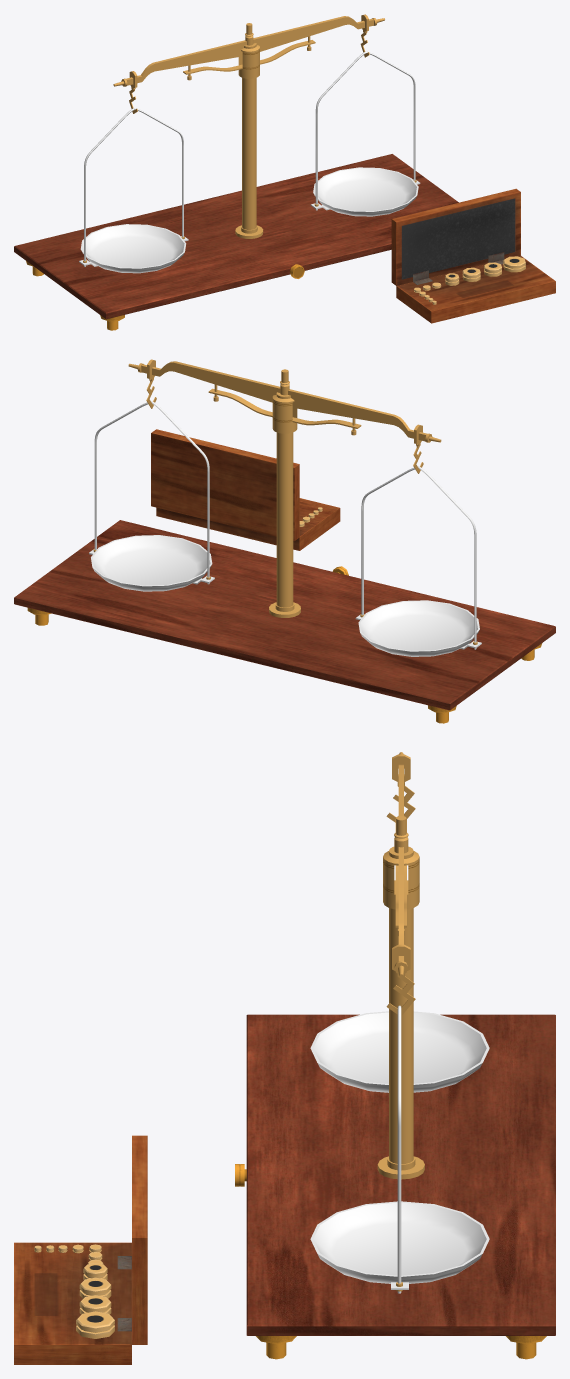
File: Balance.fbx
3 renders of one model, top to bottom at view 1: azimuth 30°, elevation 25°; view 2: azimuth 150°, elevation 25°; view 3: azimuth 270°, elevation 25°, orthographic. The views are drawn at different scales.
Parts seen in each view (by area): view 1: Cube.006, Cube.008, Cube.009, Cylinder.008, Cube.007, Cylinder.006; view 2: Cube.006, Cube.008, Cube.009, Cylinder.008, Cube.007; view 3: Cube.006, Cube.008, Cube.007, Cylinder.008, Cube.009, Cylinder.006.
Boxes of the visible parts, box(x1,y1,x2,y2) form: Cube.006: box(14, 154, 458, 330); Cube.008: box(79, 14, 420, 273); Cube.009: box(391, 188, 520, 285); Cylinder.008: box(113, 16, 384, 238); Cube.007: box(396, 255, 555, 323); Cylinder.006: box(414, 256, 525, 304); Cube.006: box(14, 520, 555, 723); Cube.008: box(89, 359, 481, 656); Cube.009: box(151, 429, 299, 541); Cylinder.008: box(128, 361, 441, 617); Cube.007: box(156, 498, 340, 550); Cube.006: box(235, 1014, 555, 1359); Cube.008: box(310, 754, 489, 1293); Cube.007: box(14, 1242, 131, 1364); Cylinder.008: box(377, 752, 424, 1179); Cube.009: box(132, 1135, 147, 1344); Cylinder.006: box(34, 1244, 114, 1338).
Size of the model in its own units: 82.94 by 48.72 by 60.69.
Materials: 4 (4 with a texture image).
